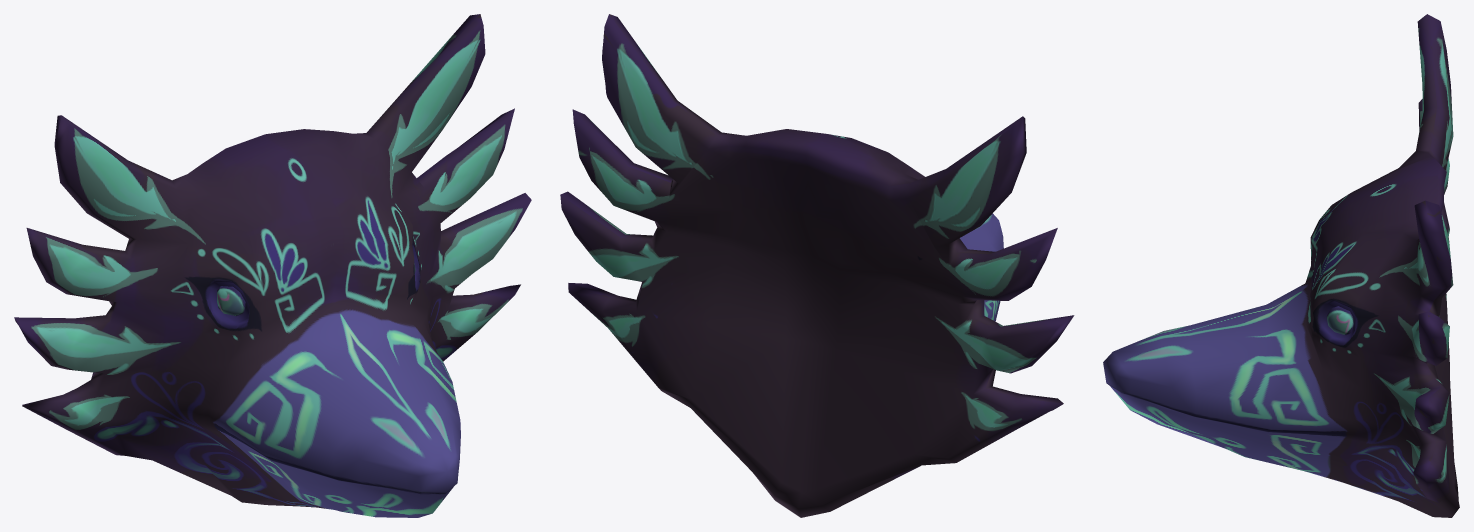
The model's file is GGJ26_CrowMask (1).fbx.
3 views of the same model, side by side, from view 1: azimuth 30°, elevation 25°; view 2: azimuth 150°, elevation 25°; view 3: azimuth 270°, elevation 25° (orthographic). The views are drawn at different scales.
Parts seen in each view (by area): view 1: CrowMask1; view 2: CrowMask1; view 3: CrowMask1.
Boxes of the visible parts, x1,y1,x2,y2 form: CrowMask1: [14, 14, 531, 517]; CrowMask1: [560, 14, 1074, 517]; CrowMask1: [1103, 14, 1459, 517].
Size of the model in its own units: 76.33 by 63.5 by 50.36.
